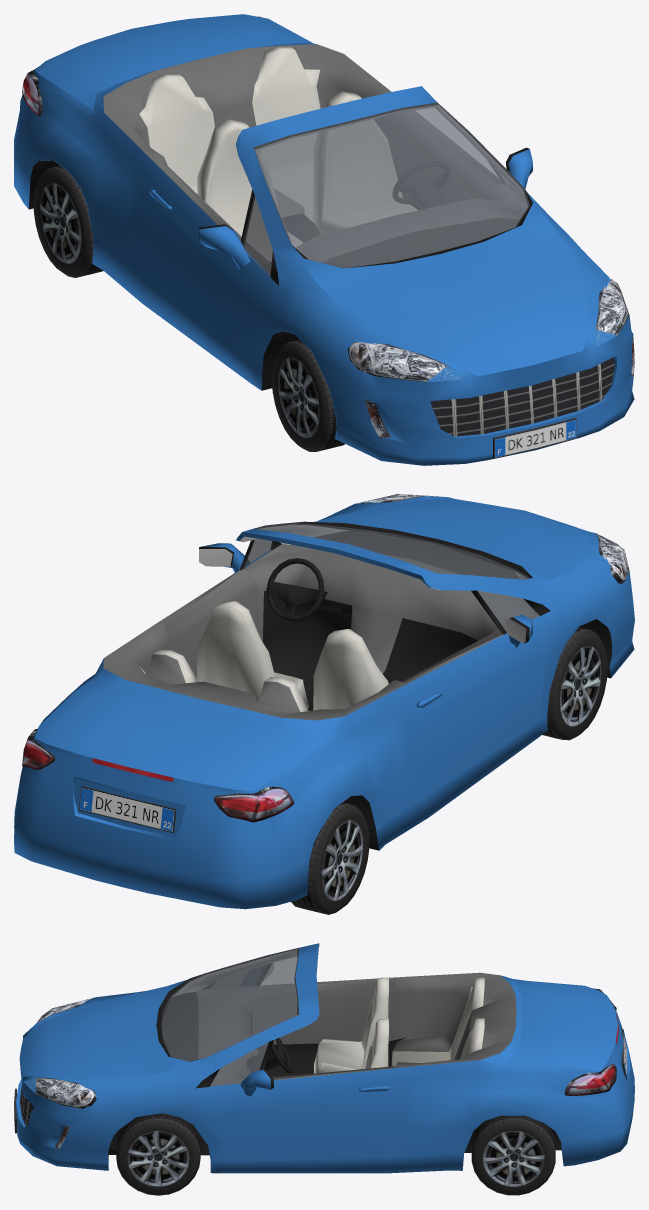
Rendered from sweethome3d-scopia-convertible.glb.
3 renders of one model, top to bottom at view 1: azimuth 30°, elevation 25°; view 2: azimuth 150°, elevation 25°; view 3: azimuth 270°, elevation 25°, orthographic. The views are drawn at different scales.
Parts seen in each view (by area): view 1: car, Glass, wheels, FrontLights, LicensePlates, steering_wheel, RearLights; view 2: car, wheels, Glass, RearLights, LicensePlates, steering_wheel, FrontLights, sweethome3d_window_mirror; view 3: car, wheels, Glass, FrontLights, RearLights, steering_wheel.
Part boxes in pixels (x1,y1,x2,y2): car: (14,14,634,465); Glass: (243,102,529,276); wheels: (33,165,344,451); FrontLights: (347,279,629,382); LicensePlates: (493,417,576,458); steering_wheel: (393,161,449,208); RearLights: (22,16,261,116); car: (14,496,634,909); wheels: (291,627,607,914); Glass: (244,523,539,632); RearLights: (22,729,294,822); LicensePlates: (79,786,176,832); steering_wheel: (266,558,342,621); FrontLights: (356,494,629,583); sweethome3d_window_mirror: (199,549,526,643); car: (16,943,634,1173); wheels: (116,1113,555,1195); Glass: (161,948,298,1086); FrontLights: (26,997,96,1108); RearLights: (564,988,616,1095); steering_wheel: (247,1038,292,1072).
Bounding box in the file's own units: 210 × 141 × 459.
17 materials, 6 textured.
